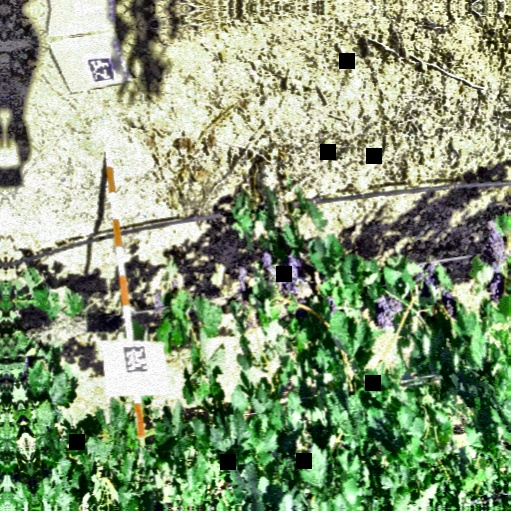QR: (88, 57, 116, 87), (124, 347, 149, 375)
